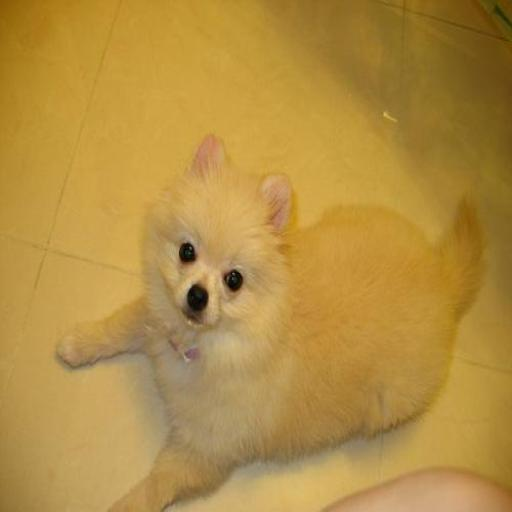dog_face: (154, 146, 297, 336)
